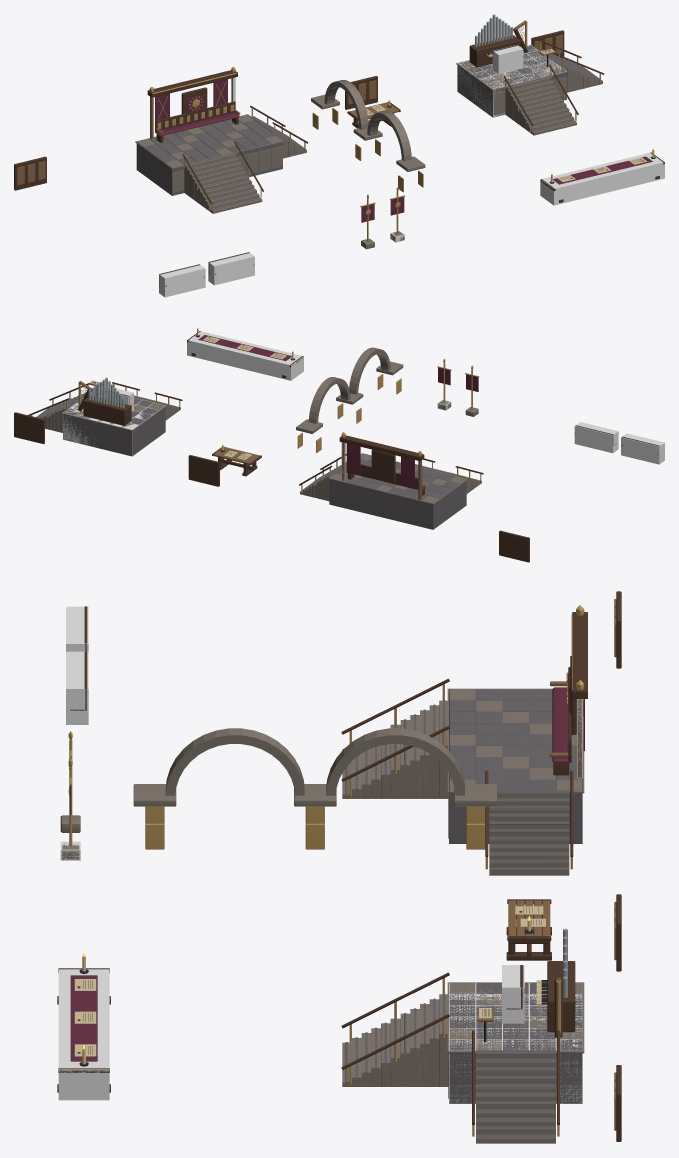
File: hall_grand.glb
3 views of the same model, one above another, from view 1: azimuth 30°, elevation 25°; view 2: azimuth 150°, elevation 25°; view 3: azimuth 270°, elevation 25° (orthographic). The views are drawn at different scales.
Visible parts, largest first — view 1: hall_grand, Solid oak desk-colonly.001, Raised court walking surface-colonly.001, Court seating-colonly.002, Court seating-colonly.003, Court seating-colonly.001; view 2: hall_grand, Solid oak desk-colonly.001, Court seating-colonly.003, Court seating-colonly.002, Raised court walking surface-colonly.001; view 3: hall_grand, Solid oak desk-colonly.001, Raised court walking surface-colonly.001, Court seating-colonly.003, Court seating-colonly.001, Court seating-colonly.002.
Boxes of the visible parts, box(x1,y1,x2,y2) form: hall_grand: box(14, 14, 664, 286); Solid oak desk-colonly.001: box(540, 152, 664, 205); Raised court walking surface-colonly.001: box(457, 45, 566, 117); Court seating-colonly.002: box(159, 264, 205, 297); Court seating-colonly.003: box(208, 252, 254, 285); Court seating-colonly.001: box(492, 45, 523, 73); hall_grand: box(14, 327, 659, 562); Solid oak desk-colonly.001: box(187, 331, 303, 380); Court seating-colonly.003: box(574, 422, 618, 453); Court seating-colonly.002: box(621, 433, 664, 464); Raised court walking surface-colonly.001: box(63, 389, 165, 456); hall_grand: box(57, 591, 621, 1143); Solid oak desk-colonly.001: box(58, 968, 109, 1100); Raised court walking surface-colonly.001: box(449, 983, 582, 1103); Court seating-colonly.003: box(66, 651, 88, 724); Court seating-colonly.001: box(502, 965, 524, 1023); Court seating-colonly.002: box(66, 606, 88, 651).
Size of what is drawn, in the model's own units: 44.63 by 6.58 by 21.1.
